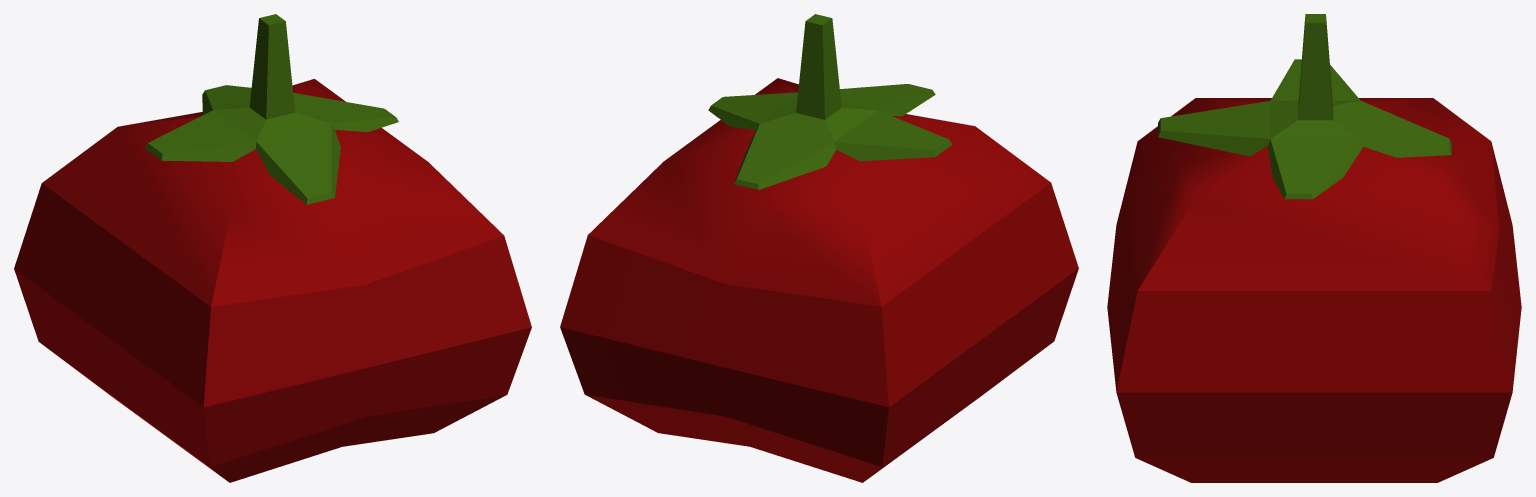
The model's file is tomato(1).fbx.
The picture shows the model from 3 angles, left to right: view 1: azimuth 30°, elevation 25°; view 2: azimuth 150°, elevation 25°; view 3: azimuth 270°, elevation 25°; orthographic projection. The views are drawn at different scales.
Parts seen in each view (by area): view 1: pCube6; view 2: pCube6; view 3: pCube6.
Part boxes in pixels (bbox=[...]): pCube6: bbox=[14, 14, 531, 482]; pCube6: bbox=[560, 14, 1078, 482]; pCube6: bbox=[1107, 14, 1521, 482].
Bounding box in the file's own units: 0.3762 × 0.4322 × 0.3934.
